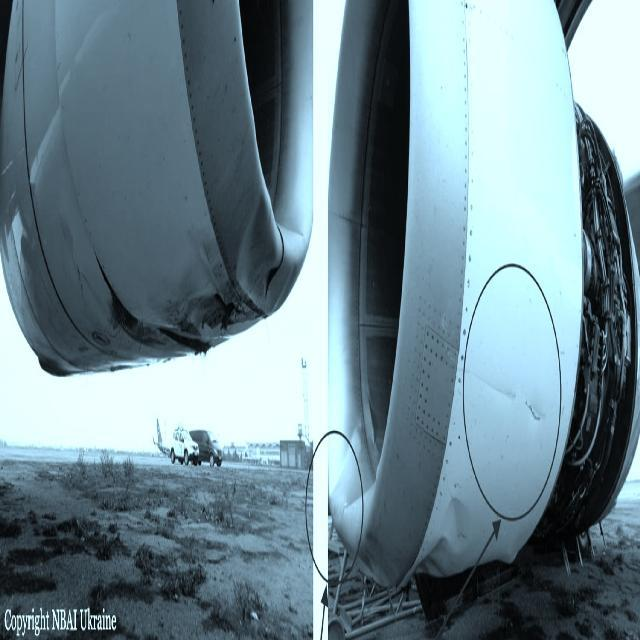crack: (528, 396, 548, 439)
dent: (410, 478, 477, 598)
